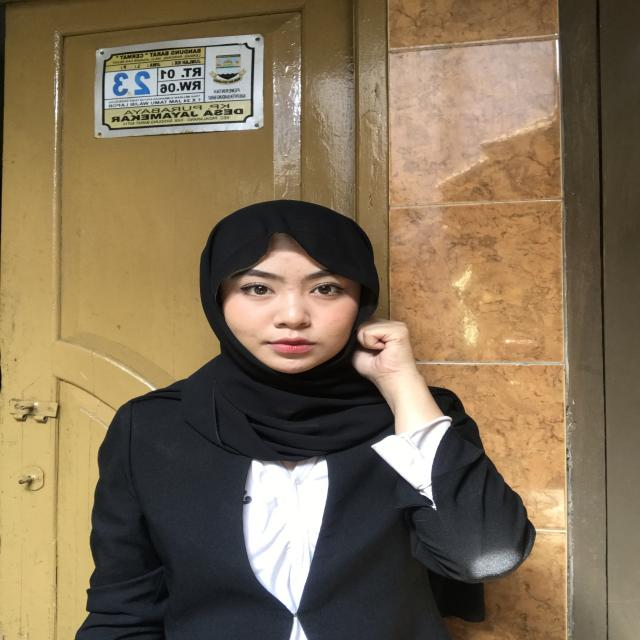ibu: (339, 311, 455, 427)
